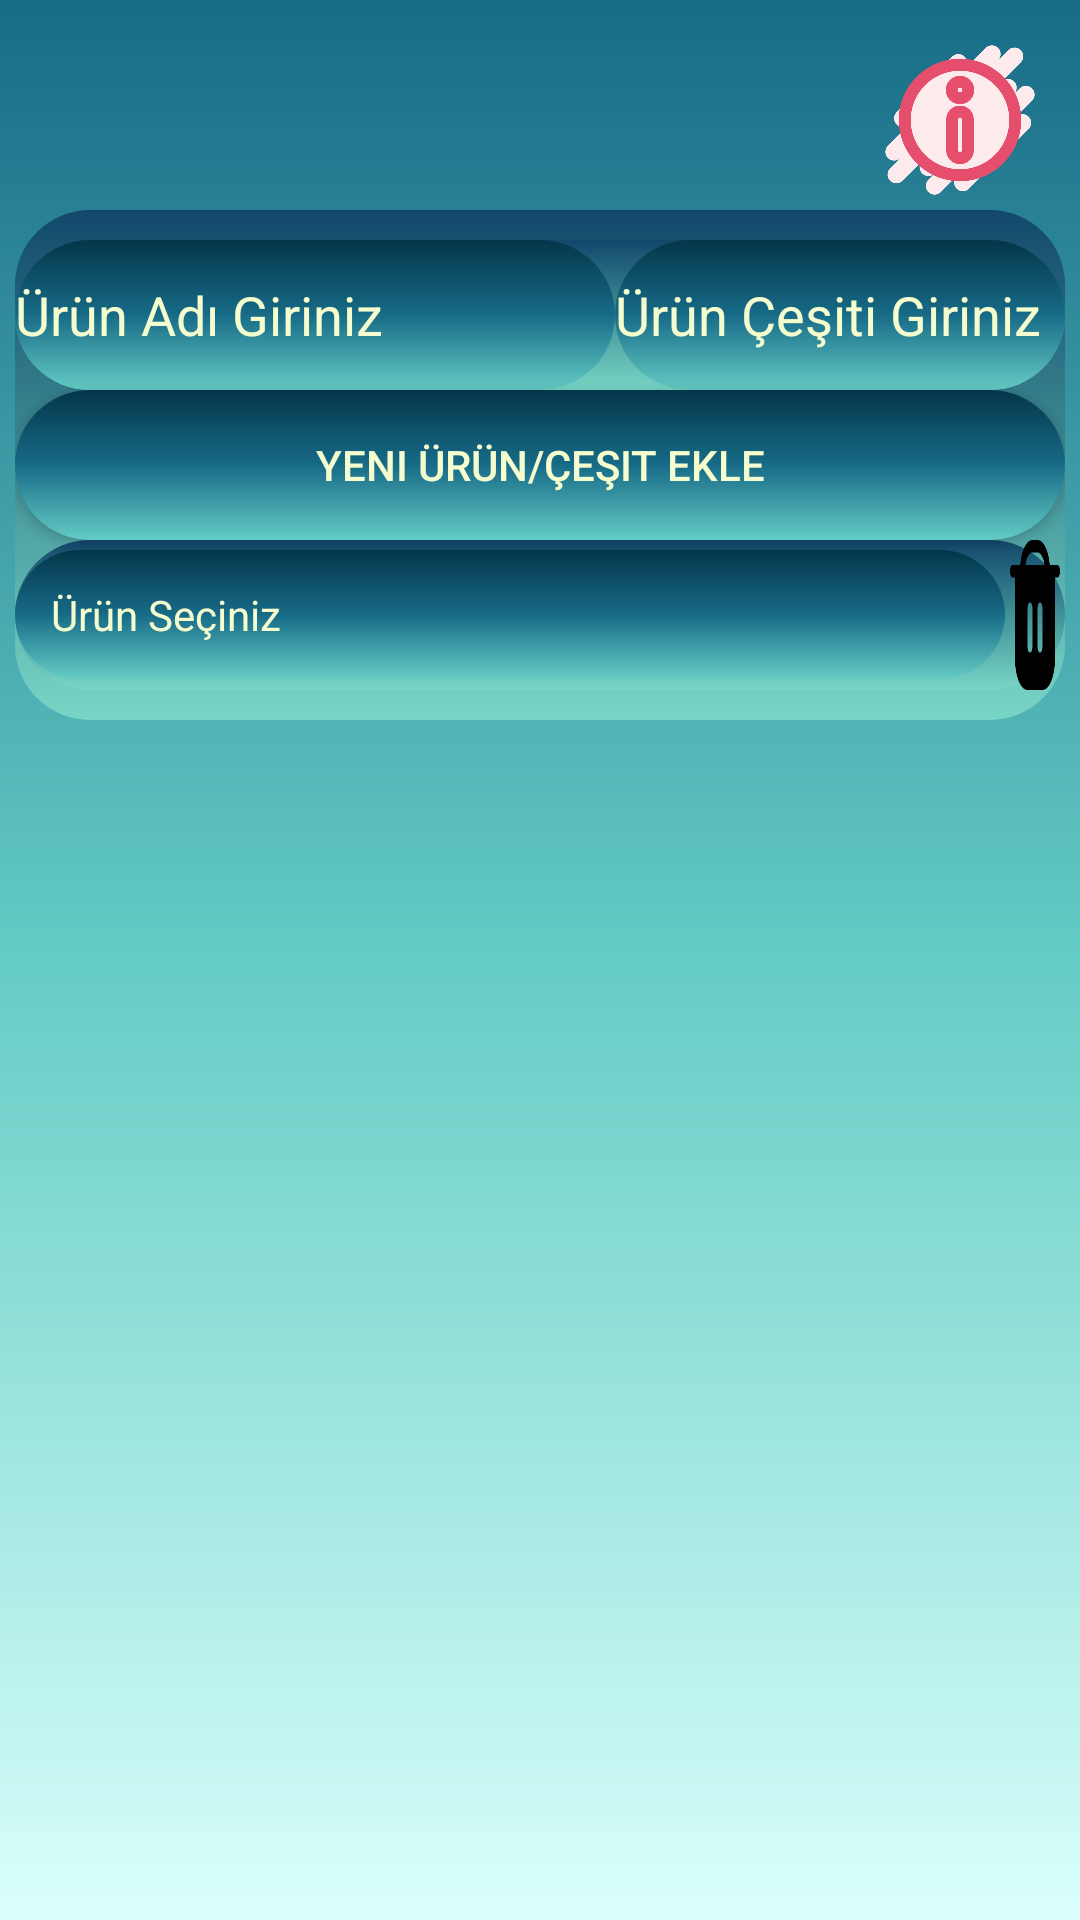

Where to tap for icons on this 1080px x 1920px app screen, as (x,y):
delete: (1035,615)
info: (960,120)
